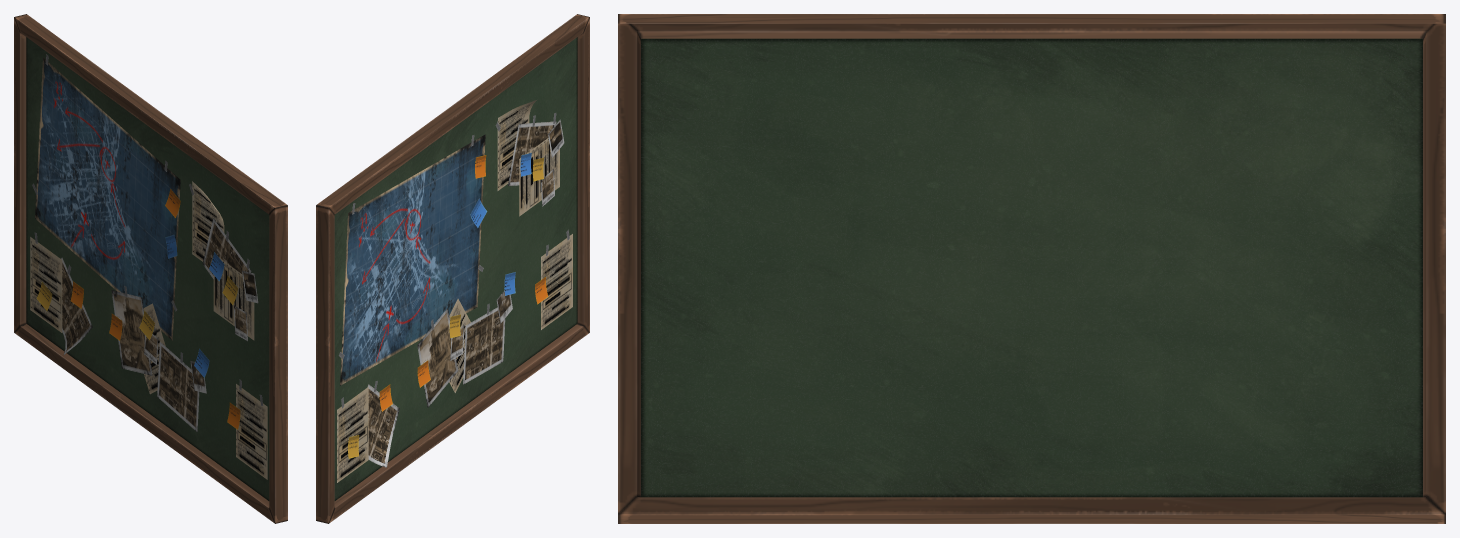
Rendered from planningBoard02.FBX.
3 renders of one model, left to right at view 1: azimuth 30°, elevation 25°; view 2: azimuth 150°, elevation 25°; view 3: azimuth 270°, elevation 25°, orthographic. The views are drawn at different scales.
Visible parts, largest first — view 1: planningBoard02; view 2: planningBoard02; view 3: planningBoard02.
Part boxes in pixels (x1,y1,x2,y2): planningBoard02: (14, 14, 287, 523); planningBoard02: (316, 14, 589, 523); planningBoard02: (618, 14, 1445, 523).
Bounding box in the file's own units: 6.76 × 120 × 180.
